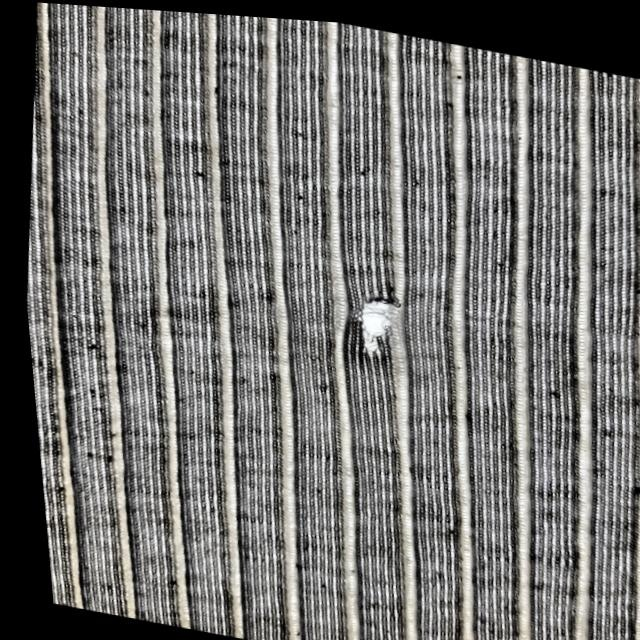Hole: (318, 322, 411, 430)
